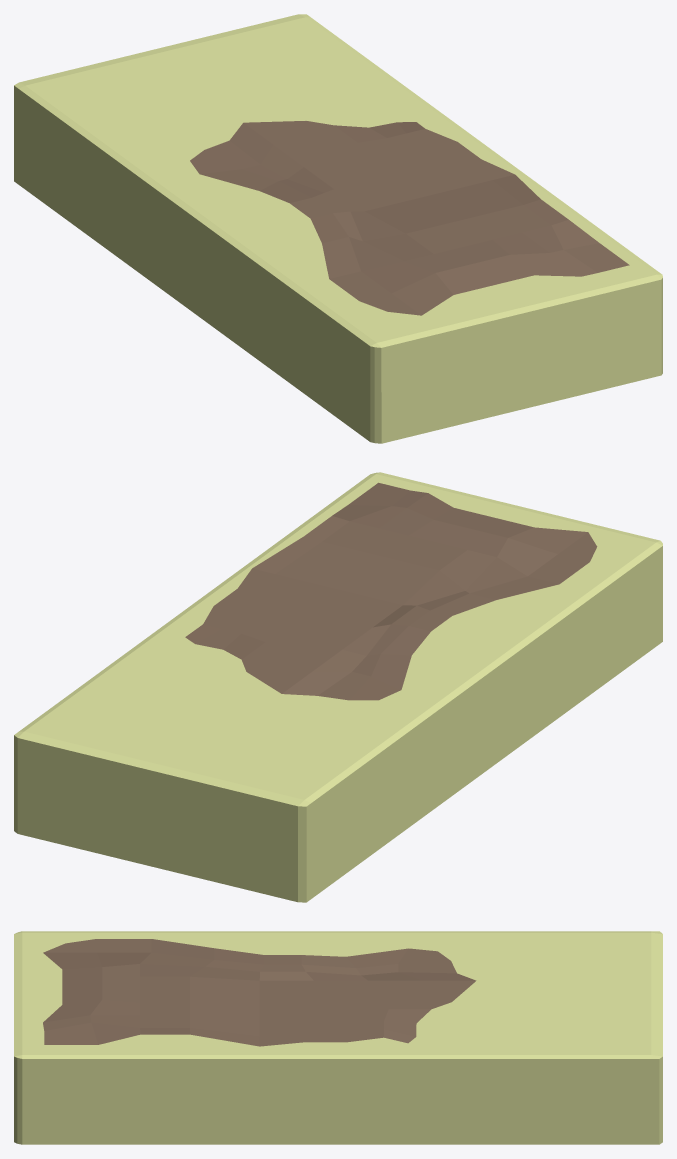
Rendered from Mattress.fbx.
The picture shows the model from 3 angles, top to bottom: view 1: azimuth 30°, elevation 25°; view 2: azimuth 150°, elevation 25°; view 3: azimuth 270°, elevation 25°; orthographic projection. The views are drawn at different scales.
Parts seen in each view (by area): view 1: Cube; view 2: Cube; view 3: Cube.
Boxes of the visible parts, x1,y1,x2,y2 form: Cube: (14,14,662,443); Cube: (14,472,662,902); Cube: (14,931,662,1144).
Size of the model in its own units: 229 by 81.82 by 491.
